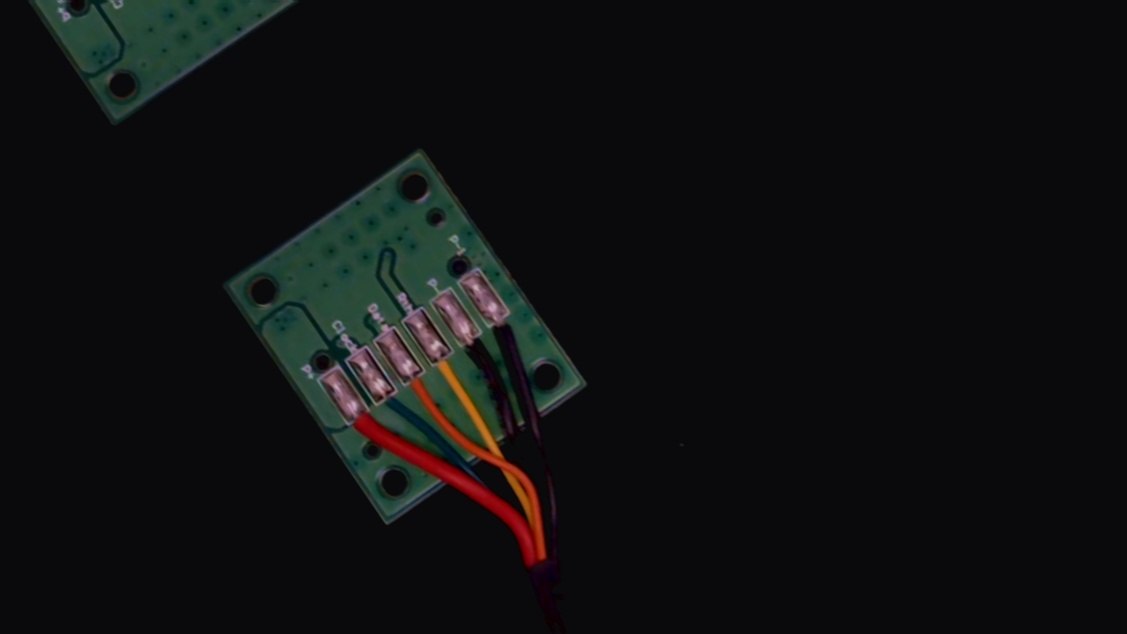Black: (450, 319, 505, 382)
Black1: (479, 299, 530, 357)
Green: (365, 378, 417, 437)
Orange: (394, 359, 445, 418)
Red: (340, 399, 397, 465)
Yellow: (422, 338, 477, 403)
